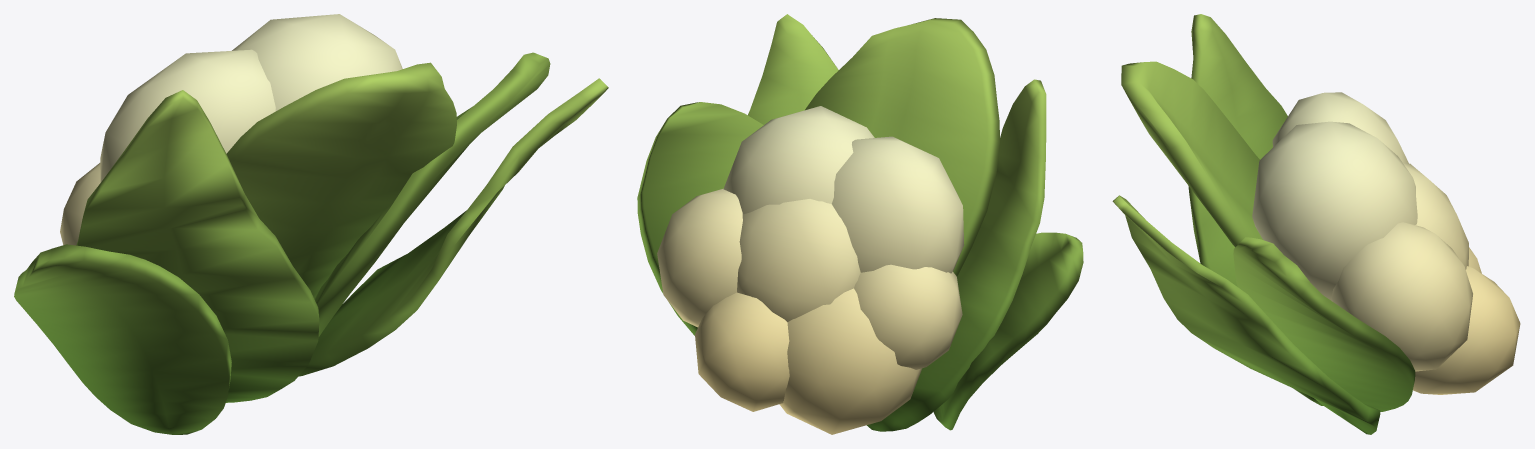
File: Cauiflower.fbx
The picture shows the model from 3 angles, left to right: view 1: azimuth 30°, elevation 25°; view 2: azimuth 150°, elevation 25°; view 3: azimuth 270°, elevation 25°; orthographic projection. The views are drawn at different scales.
Parts seen in each view (by area): view 1: Cauiflower; view 2: Cauiflower; view 3: Cauiflower.
Boxes of the visible parts, left/top/right/bottom form: Cauiflower: left=14, top=14, right=608, bottom=434; Cauiflower: left=637, top=14, right=1083, bottom=434; Cauiflower: left=1112, top=14, right=1520, bottom=434.
Size of the model in its own units: 31.44 by 23.55 by 25.33.
